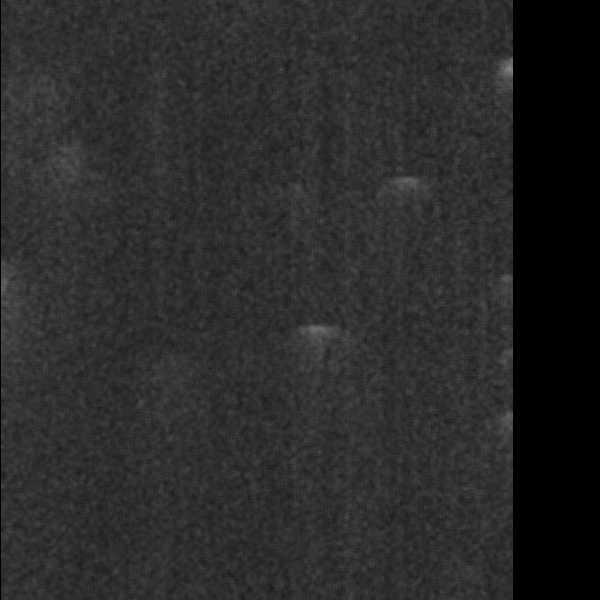spark: (290, 317, 346, 365), (55, 130, 77, 218), (500, 50, 521, 114), (394, 167, 422, 213)
